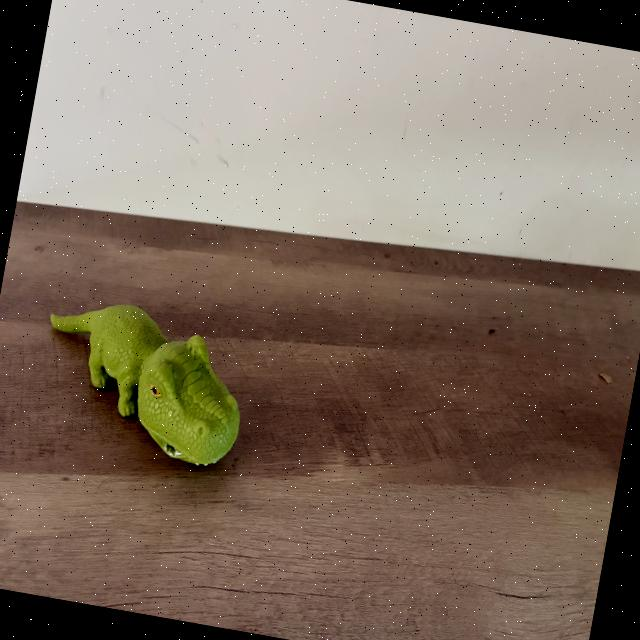dinosaur: (50, 295, 239, 465)
